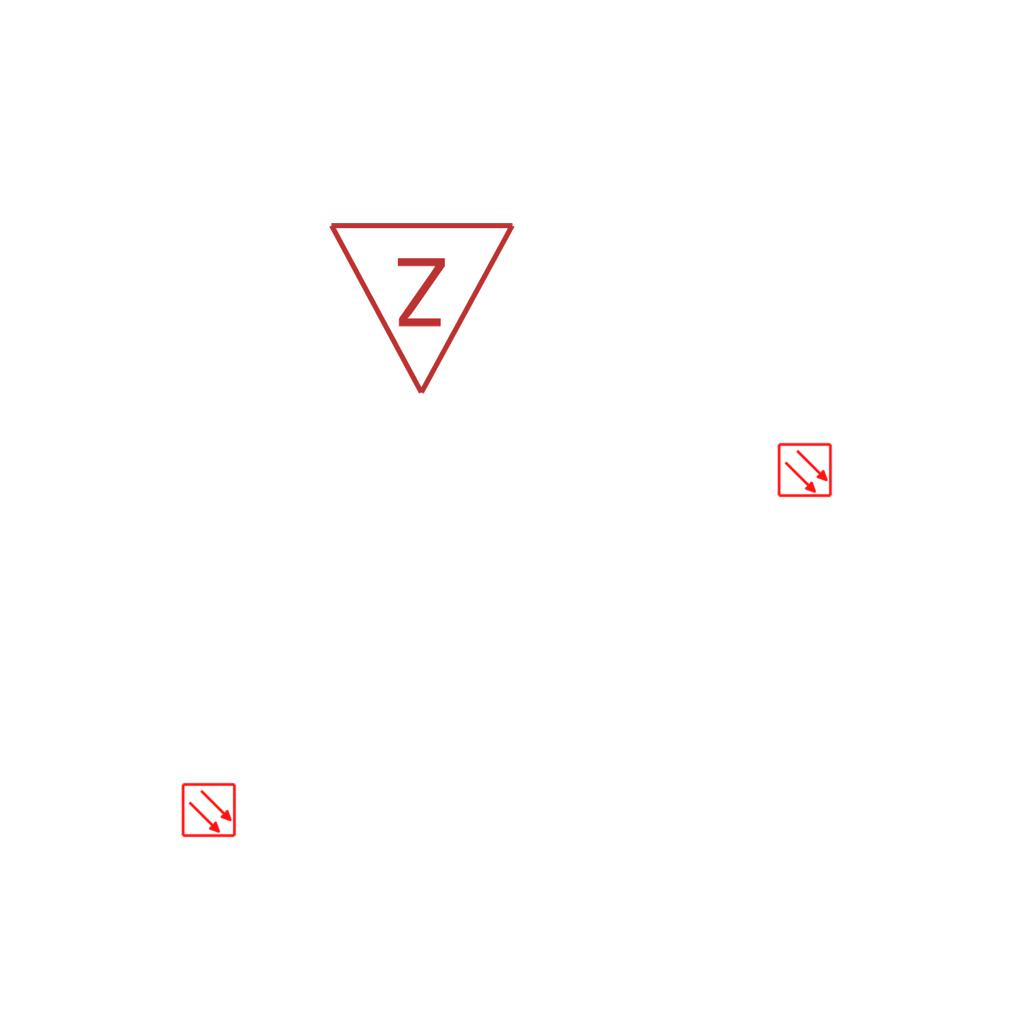RMO_Rauchmelder_optischer: (181, 782, 237, 838), (777, 442, 833, 498)
Zimmersignalleuchte: (326, 208, 522, 408)
